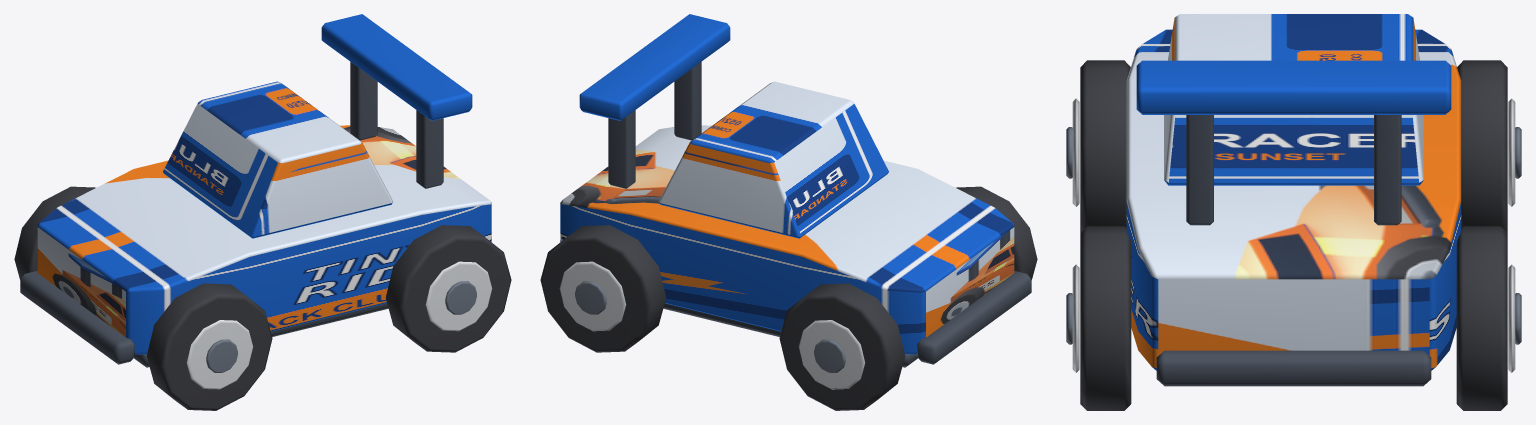
3 views of the same model, side by side, from view 1: azimuth 30°, elevation 25°; view 2: azimuth 150°, elevation 25°; view 3: azimuth 270°, elevation 25° (orthographic). The views are drawn at different scales.
Parts seen in each view (by area): view 1: TC-01_connected_shell, TC-01_cabin, Tire, Tire.002, rear airfoil, front bumper, Rim.002, Rim, wing support, wing support.001, Tire.001, underbody (+2 smaller); view 2: TC-01_connected_shell, TC-01_cabin, Tire.001, Tire.003, rear airfoil, front bumper, Rim.003, Rim.001, wing support.001, wing support, Tire, underbody (+2 smaller); view 3: TC-01_connected_shell, TC-01_cabin, rear airfoil, rear bumper, Tire.002, Tire.003, Tire, Tire.001, wing support, wing support.001, Rim, Rim.001 (+2 smaller).
Boxes of the visible parts, bbox=[...] form: TC-01_connected_shell: bbox=[37, 125, 491, 354]; TC-01_cabin: bbox=[163, 81, 393, 238]; Tire: bbox=[146, 283, 272, 410]; Tire.002: bbox=[385, 225, 511, 352]; rear airfoil: bbox=[321, 14, 472, 120]; front bumper: bbox=[20, 271, 135, 364]; Rim.002: bbox=[425, 261, 492, 331]; Rim: bbox=[187, 320, 253, 389]; wing support: bbox=[416, 110, 443, 188]; wing support.001: bbox=[350, 62, 377, 140]; Tire.001: bbox=[14, 186, 95, 279]; underbody: bbox=[134, 303, 388, 367]; TC-01_connected_shell: bbox=[560, 125, 1014, 354]; TC-01_cabin: bbox=[658, 81, 888, 238]; Tire.001: bbox=[779, 283, 905, 410]; Tire.003: bbox=[540, 225, 666, 352]; rear airfoil: bbox=[579, 14, 730, 120]; front bumper: bbox=[916, 271, 1031, 364]; Rim.003: bbox=[559, 261, 626, 331]; Rim.001: bbox=[798, 320, 864, 389]; wing support.001: bbox=[608, 110, 635, 188]; wing support: bbox=[674, 62, 701, 140]; Tire: bbox=[956, 186, 1037, 279]; underbody: bbox=[663, 303, 917, 367]; TC-01_connected_shell: bbox=[1126, 29, 1461, 370]; TC-01_cabin: bbox=[1164, 14, 1423, 185]; rear airfoil: bbox=[1136, 60, 1451, 114]; rear bumper: bbox=[1156, 350, 1431, 386]; Tire.002: bbox=[1080, 226, 1131, 410]; Tire.003: bbox=[1456, 226, 1507, 410]; Tire: bbox=[1080, 60, 1130, 232]; Tire.001: bbox=[1457, 60, 1507, 232]; wing support: bbox=[1186, 115, 1213, 225]; wing support.001: bbox=[1374, 115, 1401, 225]; Rim: bbox=[1072, 98, 1079, 206]; Rim.001: bbox=[1508, 98, 1515, 206].
Size of the model in its own units: 325 by 190 by 231.
